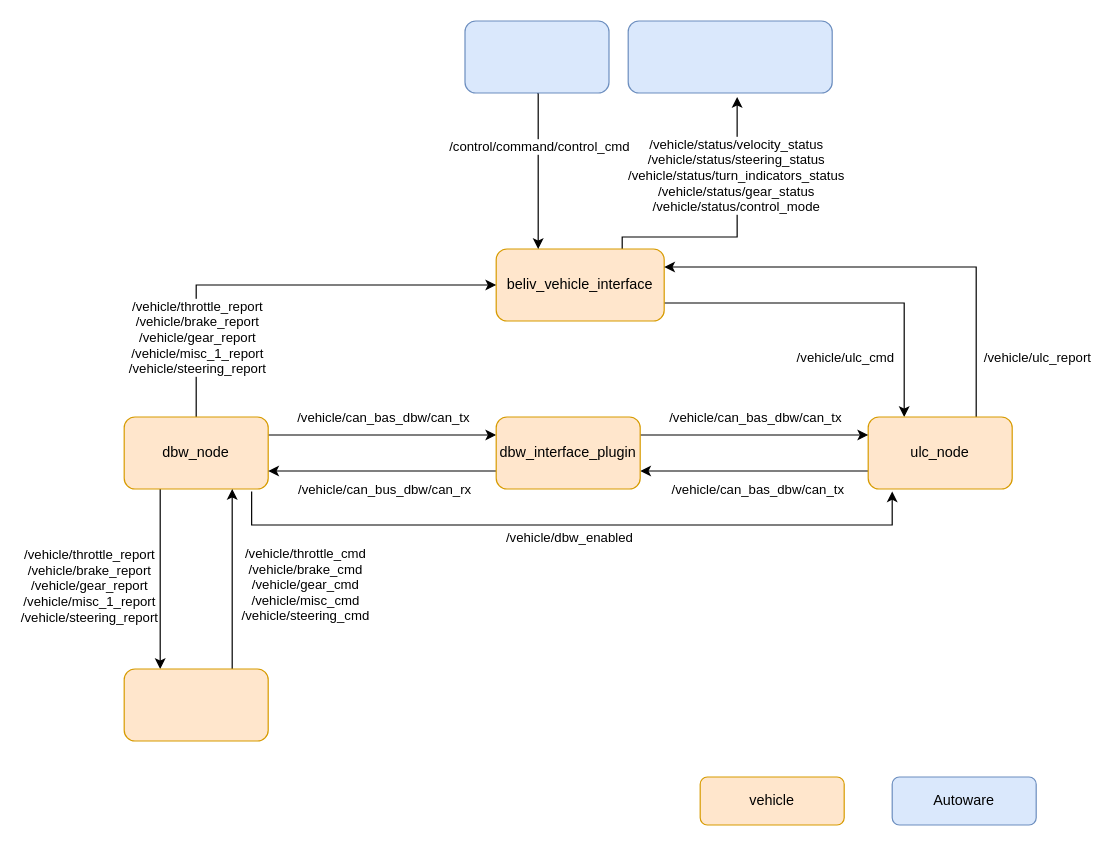
This 1111x846 diagram has some shape labels left out. Each missing label, with the centre of its shape:
"/default_ad_api/node/vehicle" belongs at (729,56).
"gateway" belongs at (195,704).
"vehicle_cmd_gate" belongs at (536,56).
